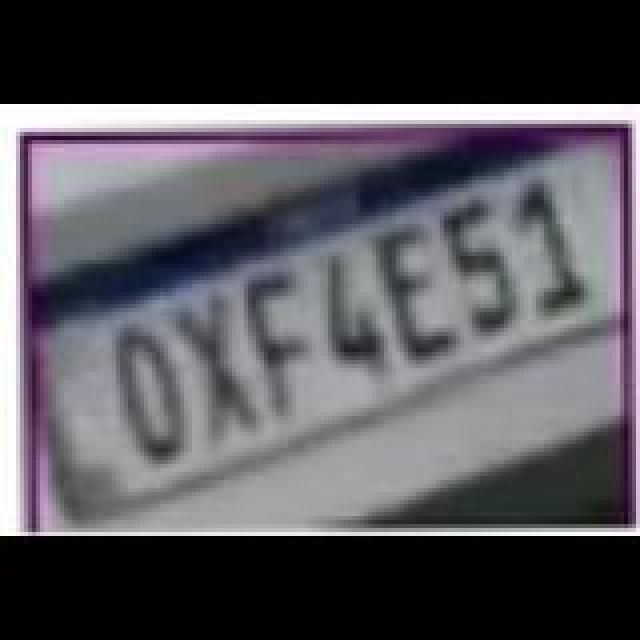1: (514, 184, 590, 320)
4: (318, 250, 394, 374)
5: (442, 202, 526, 334)
E: (382, 228, 466, 364)
F: (242, 272, 318, 416)
O: (112, 328, 192, 464)
X: (172, 300, 260, 444)
